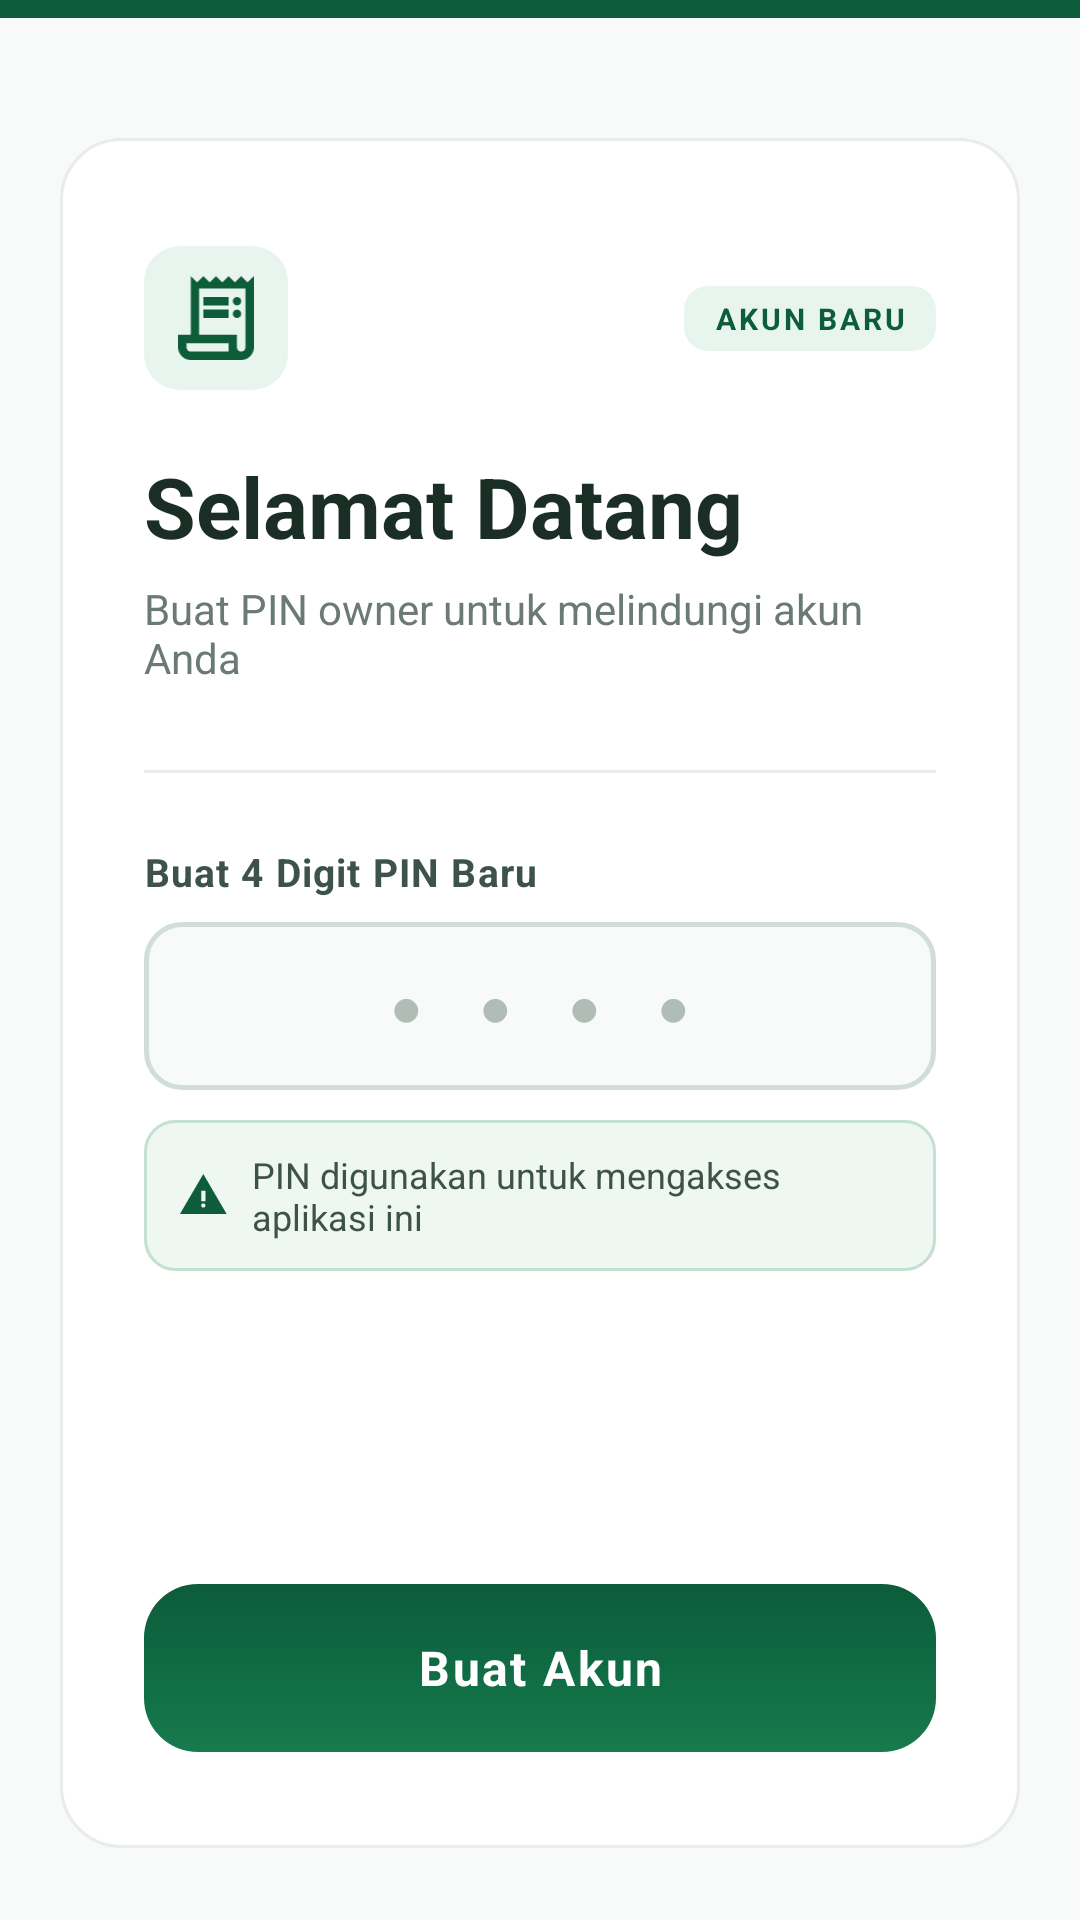

Screen size 1080×1920. Icon name, then its center in pixels as (x,y):
daftartransaksi: (216,318)
Info: (203,1194)
